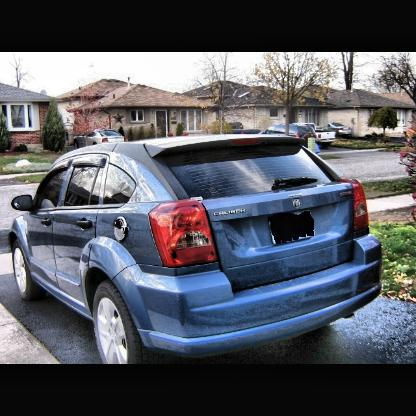Dodge Caliber Wagon 2012: (9, 136, 386, 364)
